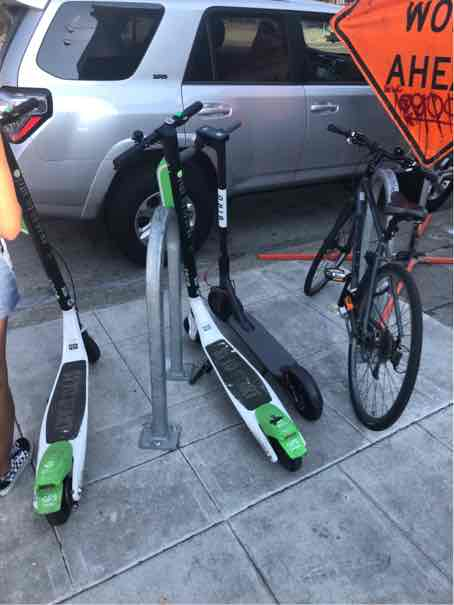scooter: (117, 100, 317, 473)
